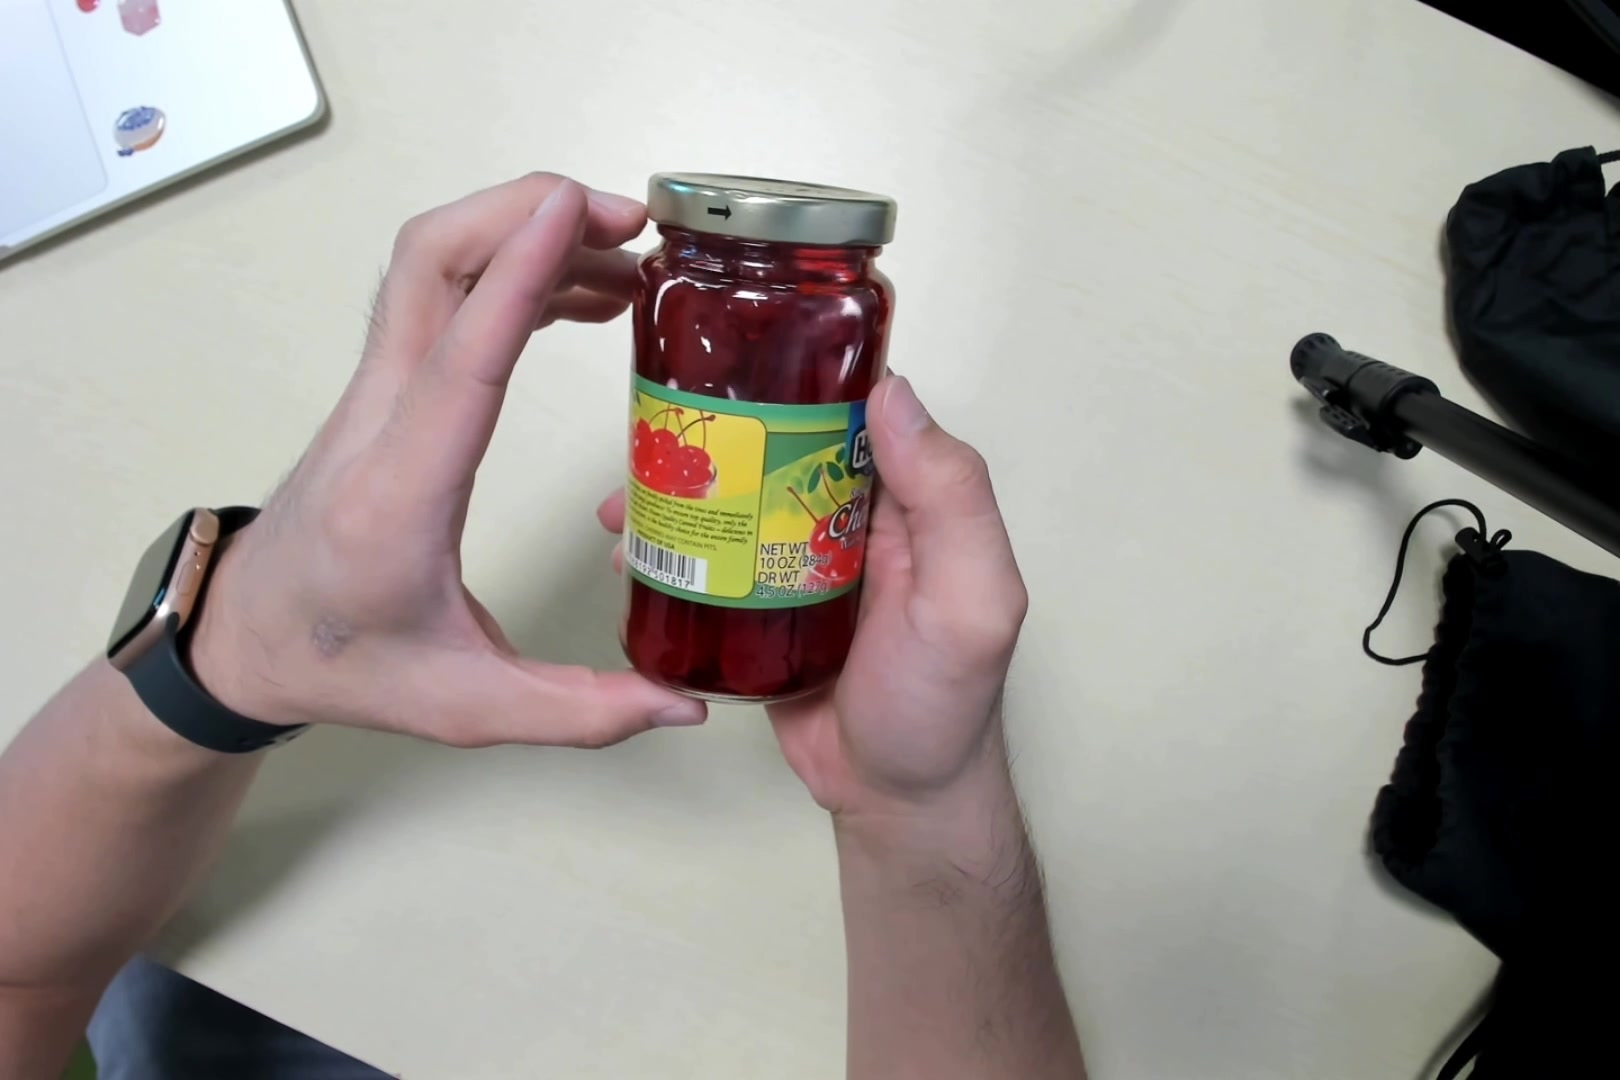OtherBakingNeeds_200-299g_NonHalal_NonHealthy: (630, 166, 893, 705)
